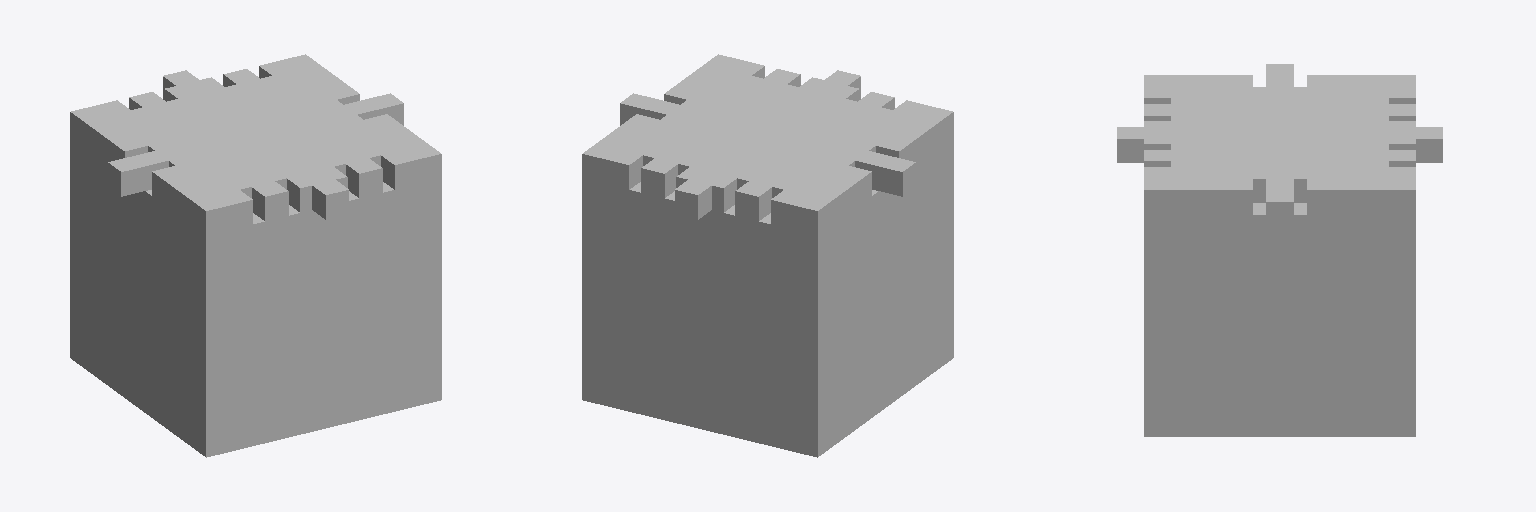
The model's file is Ground1.obj.
The picture shows the model from 3 angles: view 1: azimuth 30°, elevation 25°; view 2: azimuth 150°, elevation 25°; view 3: azimuth 270°, elevation 25°; orthographic projection.
Visible parts, largest first — view 1: object 1; view 2: object 1; view 3: object 1.
Part boxes in pixels (x1,y1,x2,y2): object 1: (70,54,441,457); object 1: (582,54,953,457); object 1: (1117,64,1442,436).
Bounding box in the file's own units: 2.4 × 2 × 2.4.